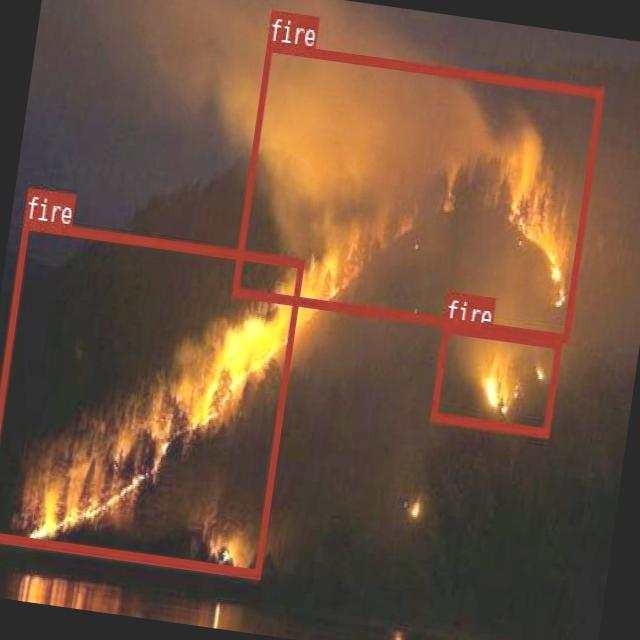fire: (232, 41, 603, 342), (0, 219, 304, 576), (430, 322, 561, 436)
